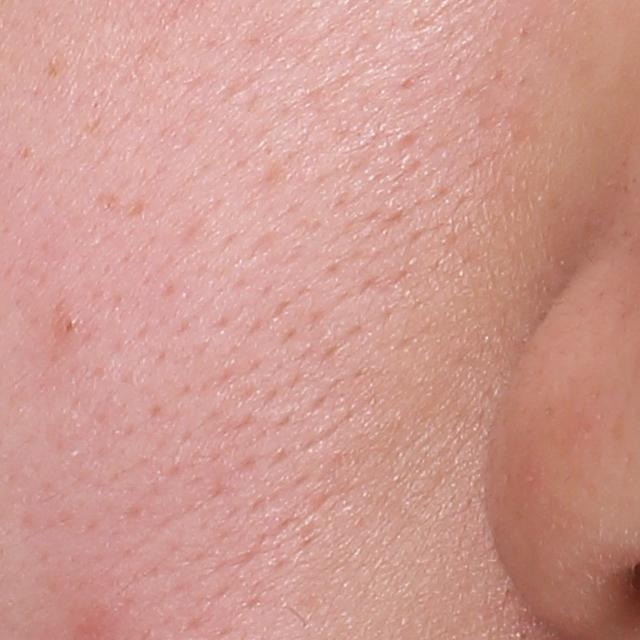comedo: (54, 307, 87, 342)
melasma: (43, 50, 70, 80)
